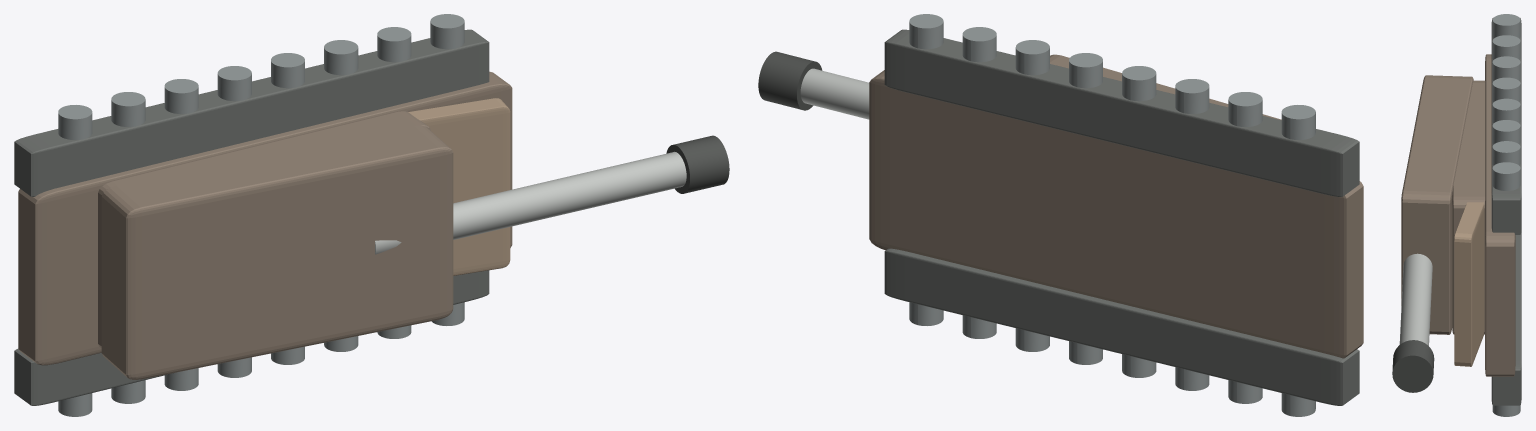
Rendered from d-u14-dominion-tank-destroyer-lod1.glb.
The picture shows the model from 3 angles, left to right: view 1: azimuth 30°, elevation 25°; view 2: azimuth 150°, elevation 25°; view 3: azimuth 270°, elevation 25°; orthographic projection. The views are drawn at different scales.
Visible parts, largest first — view 1: tank_hunter_casemate, chassis_track_1, chassis_lower, tank_hunter_barrel_0, chassis_glacis, chassis_track_-1, upper_hull, tank_hunter_muzzle_0, chassis_roadwheel_1_7, chassis_roadwheel_1_6, chassis_roadwheel_1_5, chassis_roadwheel_1_3 (+7 smaller); view 2: chassis_lower, chassis_track_1, chassis_track_-1, tank_hunter_barrel_0, tank_hunter_muzzle_0, chassis_roadwheel_1_7, chassis_roadwheel_1_6, chassis_roadwheel_1_3, chassis_roadwheel_1_5, chassis_roadwheel_1_0, chassis_roadwheel_1_2, chassis_roadwheel_1_1 (+10 smaller); view 3: tank_hunter_casemate, chassis_lower, chassis_glacis, upper_hull, tank_hunter_barrel_0, chassis_track_1, chassis_track_-1, tank_hunter_muzzle_0, chassis_roadwheel_1_7, chassis_roadwheel_1_0, chassis_roadwheel_1_1, chassis_roadwheel_1_2 (+5 smaller).
Part boxes in pixels (x1=…): tank_hunter_casemate: x1=101, y1=125, x2=453, y2=379; chassis_track_1: x1=14, y1=29, x2=489, y2=196; chassis_lower: x1=18, y1=71, x2=512, y2=365; tank_hunter_barrel_0: x1=375, y1=151, x2=686, y2=254; chassis_glacis: x1=408, y1=98, x2=510, y2=275; chassis_track_-1: x1=14, y1=270, x2=489, y2=405; upper_hull: x1=98, y1=111, x2=430, y2=347; tank_hunter_muzzle_0: x1=666, y1=135, x2=729, y2=193; chassis_roadwheel_1_7: x1=430, y1=14, x2=464, y2=49; chassis_roadwheel_1_6: x1=377, y1=27, x2=411, y2=62; chassis_roadwheel_1_5: x1=324, y1=40, x2=358, y2=75; chassis_roadwheel_1_3: x1=217, y1=66, x2=251, y2=101; chassis_lower: x1=869, y1=70, x2=1363, y2=358; chassis_track_1: x1=884, y1=29, x2=1359, y2=196; chassis_track_-1: x1=884, y1=248, x2=1359, y2=405; tank_hunter_barrel_0: x1=800, y1=68, x2=869, y2=119; tank_hunter_muzzle_0: x1=758, y1=51, x2=822, y2=110; chassis_roadwheel_1_7: x1=909, y1=14, x2=943, y2=49; chassis_roadwheel_1_6: x1=962, y1=27, x2=996, y2=62; chassis_roadwheel_1_3: x1=1122, y1=66, x2=1156, y2=101; chassis_roadwheel_1_5: x1=1015, y1=40, x2=1049, y2=75; chassis_roadwheel_1_0: x1=1281, y1=105, x2=1315, y2=139; chassis_roadwheel_1_2: x1=1175, y1=79, x2=1209, y2=113; chassis_roadwheel_1_1: x1=1228, y1=92, x2=1262, y2=126; tank_hunter_casemate: x1=1401, y1=75, x2=1473, y2=334; chassis_lower: x1=1485, y1=54, x2=1515, y2=376; chassis_glacis: x1=1454, y1=202, x2=1484, y2=366; upper_hull: x1=1452, y1=80, x2=1485, y2=334; tank_hunter_barrel_0: x1=1399, y1=253, x2=1432, y2=345; chassis_track_1: x1=1491, y1=17, x2=1521, y2=234; chassis_track_-1: x1=1491, y1=230, x2=1521, y2=405; tank_hunter_muzzle_0: x1=1392, y1=340, x2=1434, y2=392; chassis_roadwheel_1_7: x1=1492, y1=162, x2=1520, y2=190; chassis_roadwheel_1_0: x1=1492, y1=14, x2=1520, y2=38; chassis_roadwheel_1_1: x1=1492, y1=35, x2=1520, y2=59; chassis_roadwheel_1_2: x1=1492, y1=56, x2=1520, y2=80.
Size of what is drawn, in the model's own units: 9.83 by 4.39 by 2.11.
